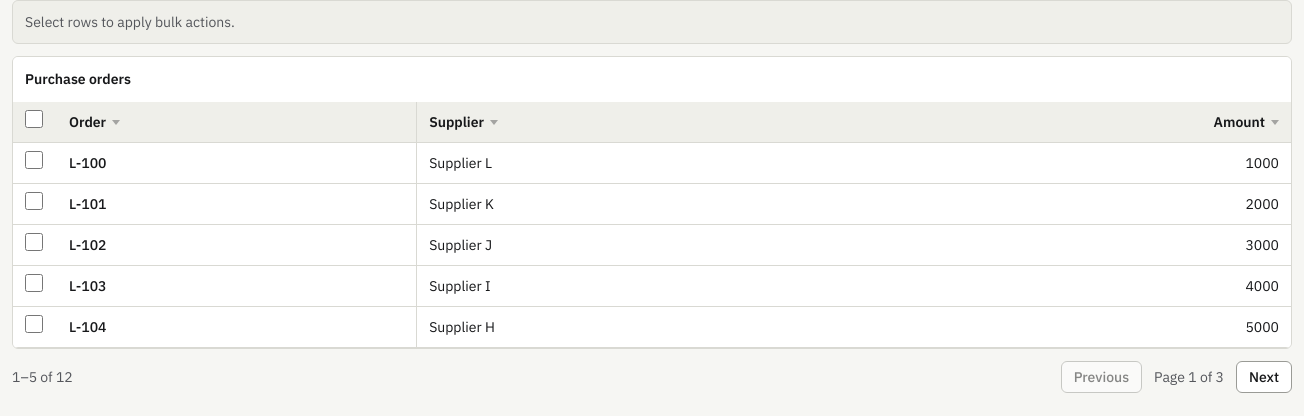
Test: BulkActionTable › marks the select-all checkbox indeterminate for a partial page selection
The image size is (1304, 416).
Later steps or results of the test are not shown.
What coordinates should you click on to do the following:
click the checkbox named "Select L-102"
I would click on:
 (34, 242)
Its box is [25,233,43,251].
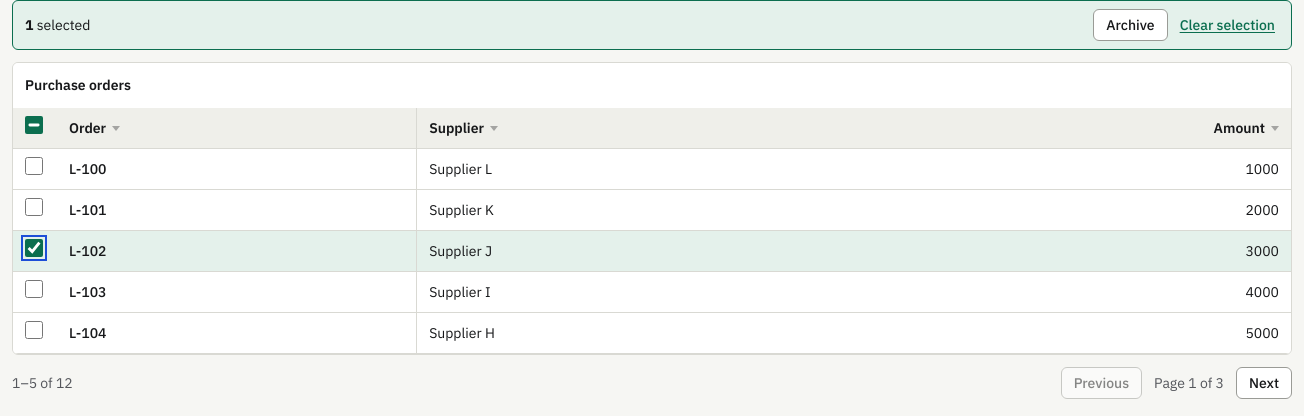
What coordinates should you click on to do the following:
click the checkbox named "Select all rows on this page"
I would click on:
 (34, 125)
Its box is [25,116,43,134].
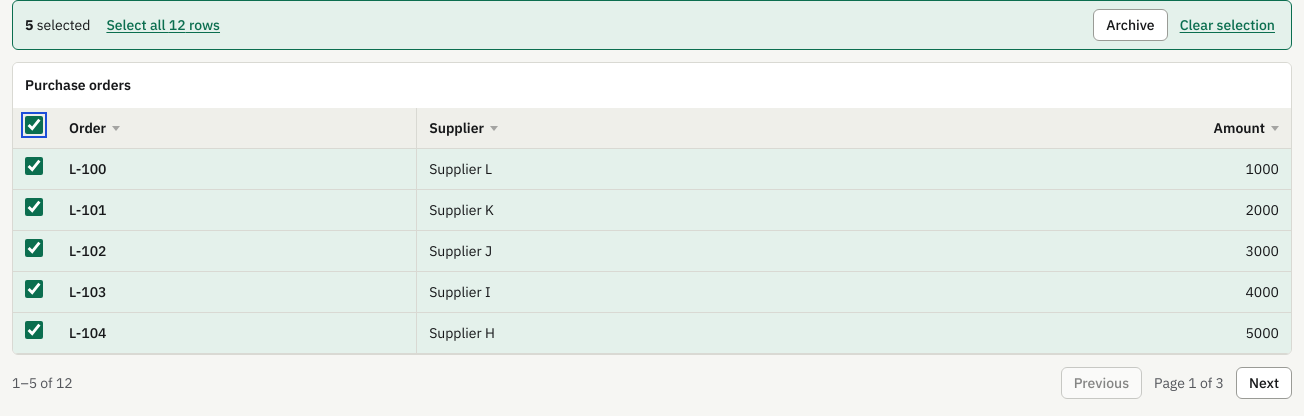
Result: the checkbox named "Select all rows on this page" is checked at [25,116,43,134]
